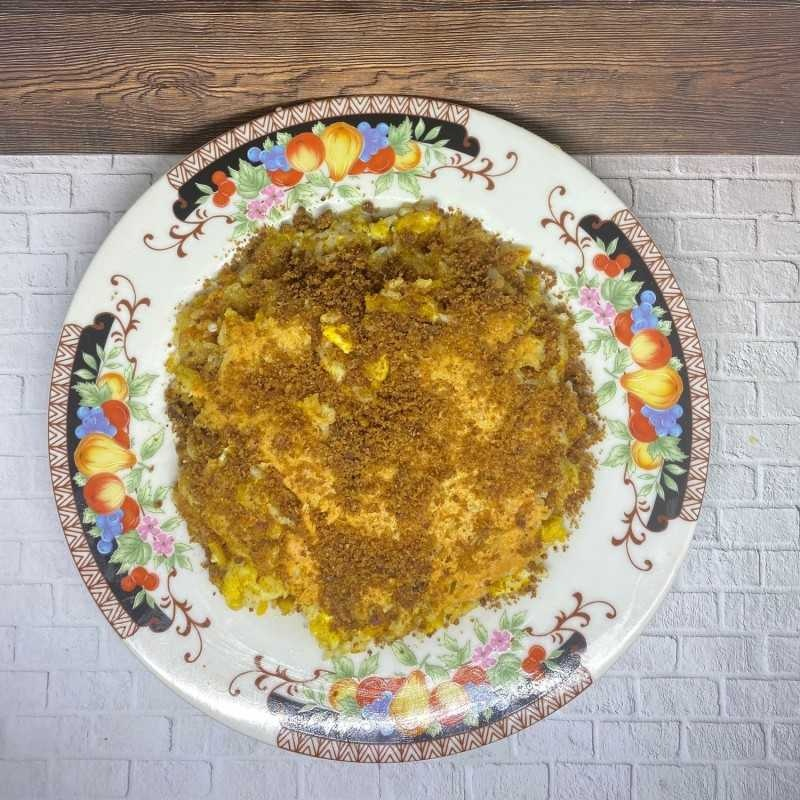kerak_telor: (160, 209, 603, 650)
